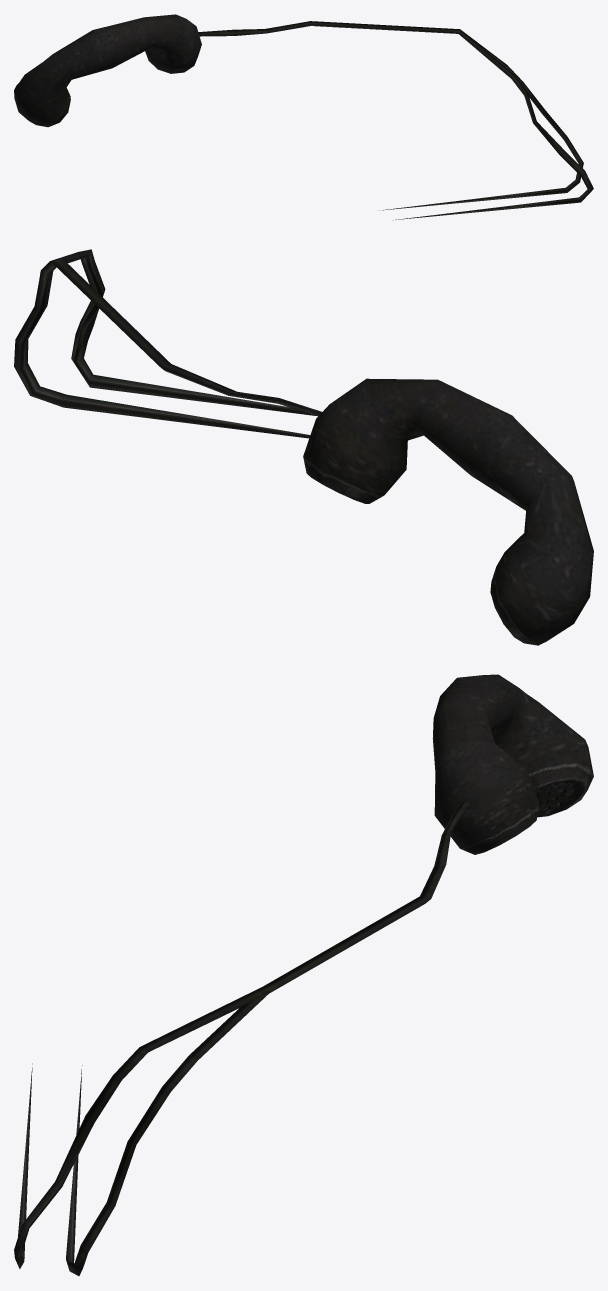
Rendered from us_ranger_radio_back.glb.
The picture shows the model from 3 angles, top to bottom: view 1: azimuth 30°, elevation 25°; view 2: azimuth 150°, elevation 25°; view 3: azimuth 270°, elevation 25°; orthographic projection. The views are drawn at different scales.
Size of the model in its own units: 20.2 by 7.47 by 13.07.
Materials: 1 (1 with a texture image).
